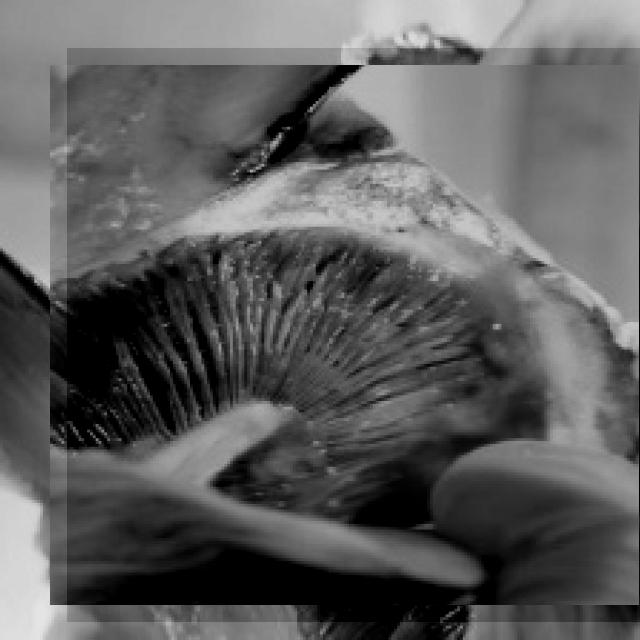Gill Disease: (67, 48, 640, 622)
